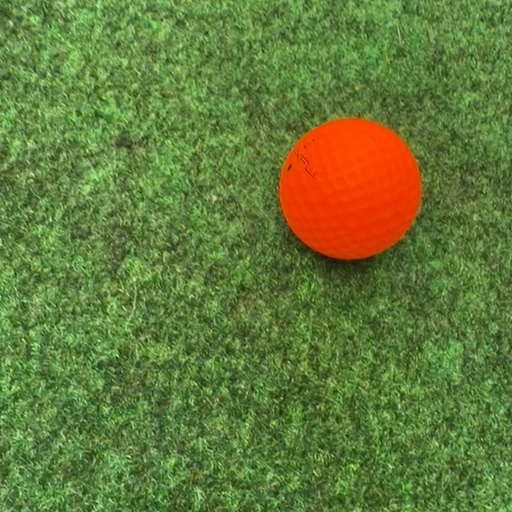Ball: (279, 119, 421, 260)
